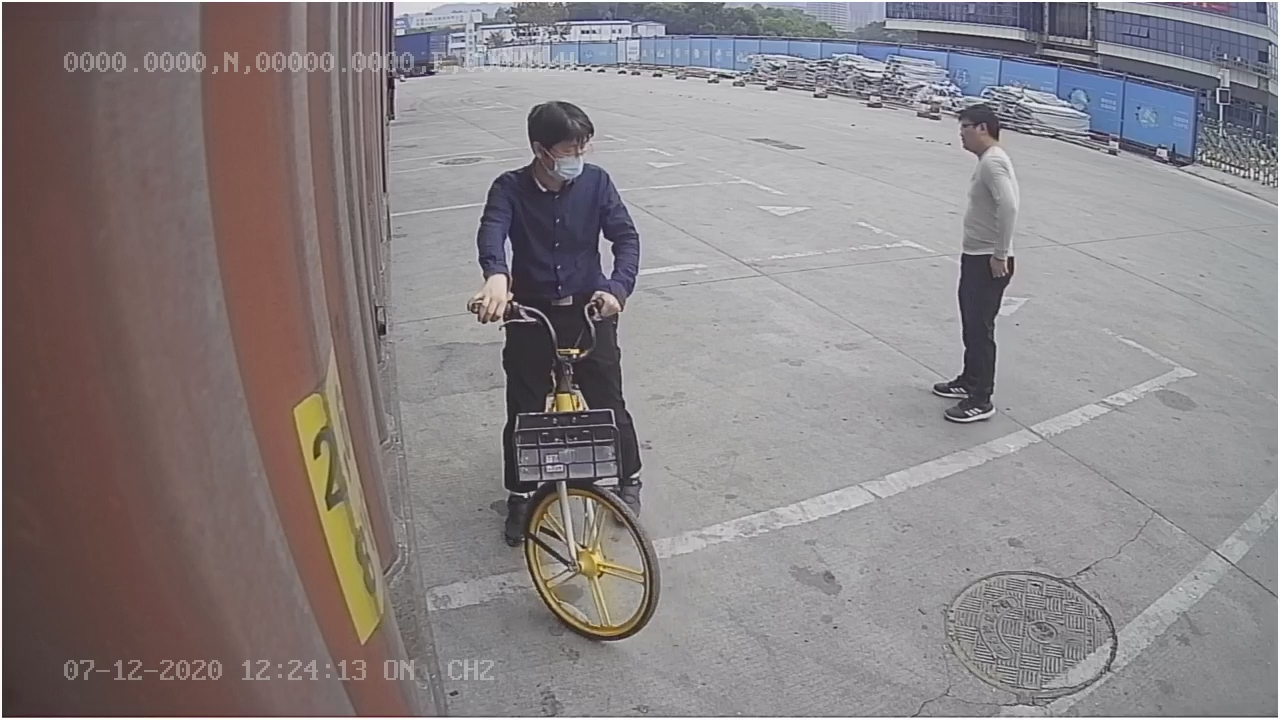person: (929, 101, 1022, 426)
